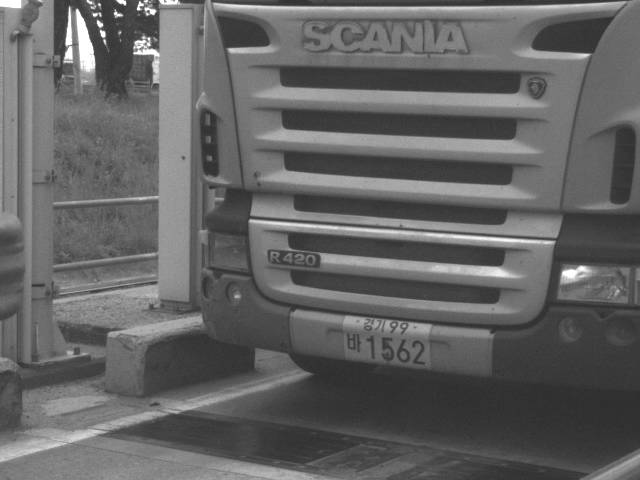car: (197, 1, 640, 398)
plate: (343, 314, 435, 372)
